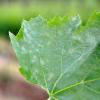Squash Powdery mildew leaf: (9, 7, 99, 96)
